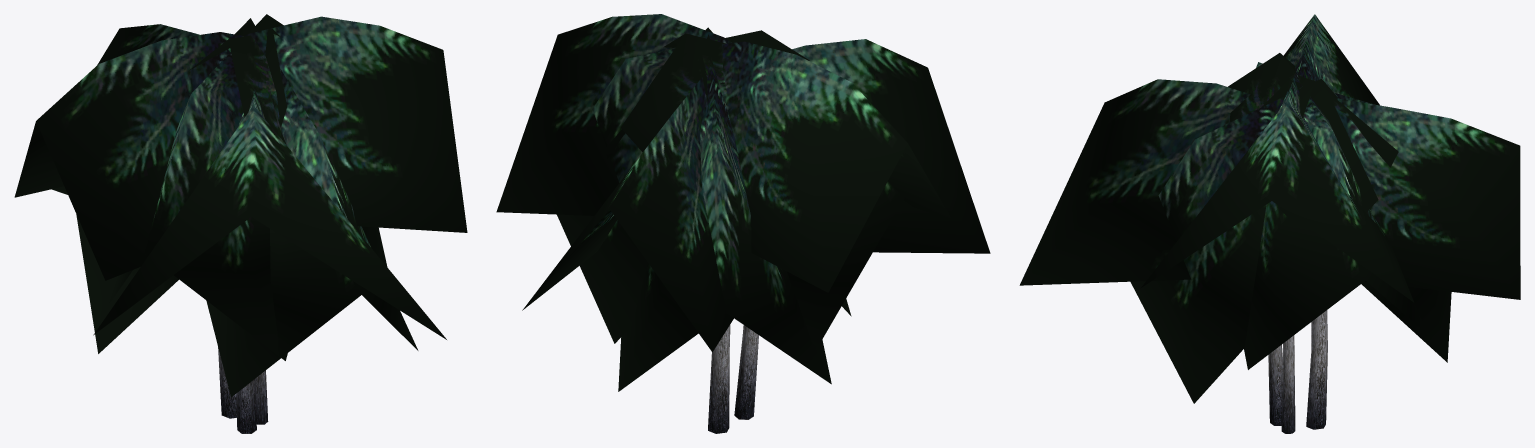
File: fern_tallstalkbig_blue_l0.fbx
3 views of the same model, side by side, from view 1: azimuth 30°, elevation 25°; view 2: azimuth 150°, elevation 25°; view 3: azimuth 270°, elevation 25° (orthographic). The views are drawn at different scales.
Visible parts, largest first — view 1: mesh_node; view 2: mesh_node; view 3: mesh_node.
Boxes of the visible parts, <box> form: mesh_node: <box>14,14,467,433</box>; mesh_node: <box>496,14,990,433</box>; mesh_node: <box>1019,14,1520,433</box>.
Bounding box in the file's own units: 22.51 × 21.58 × 27.04.
